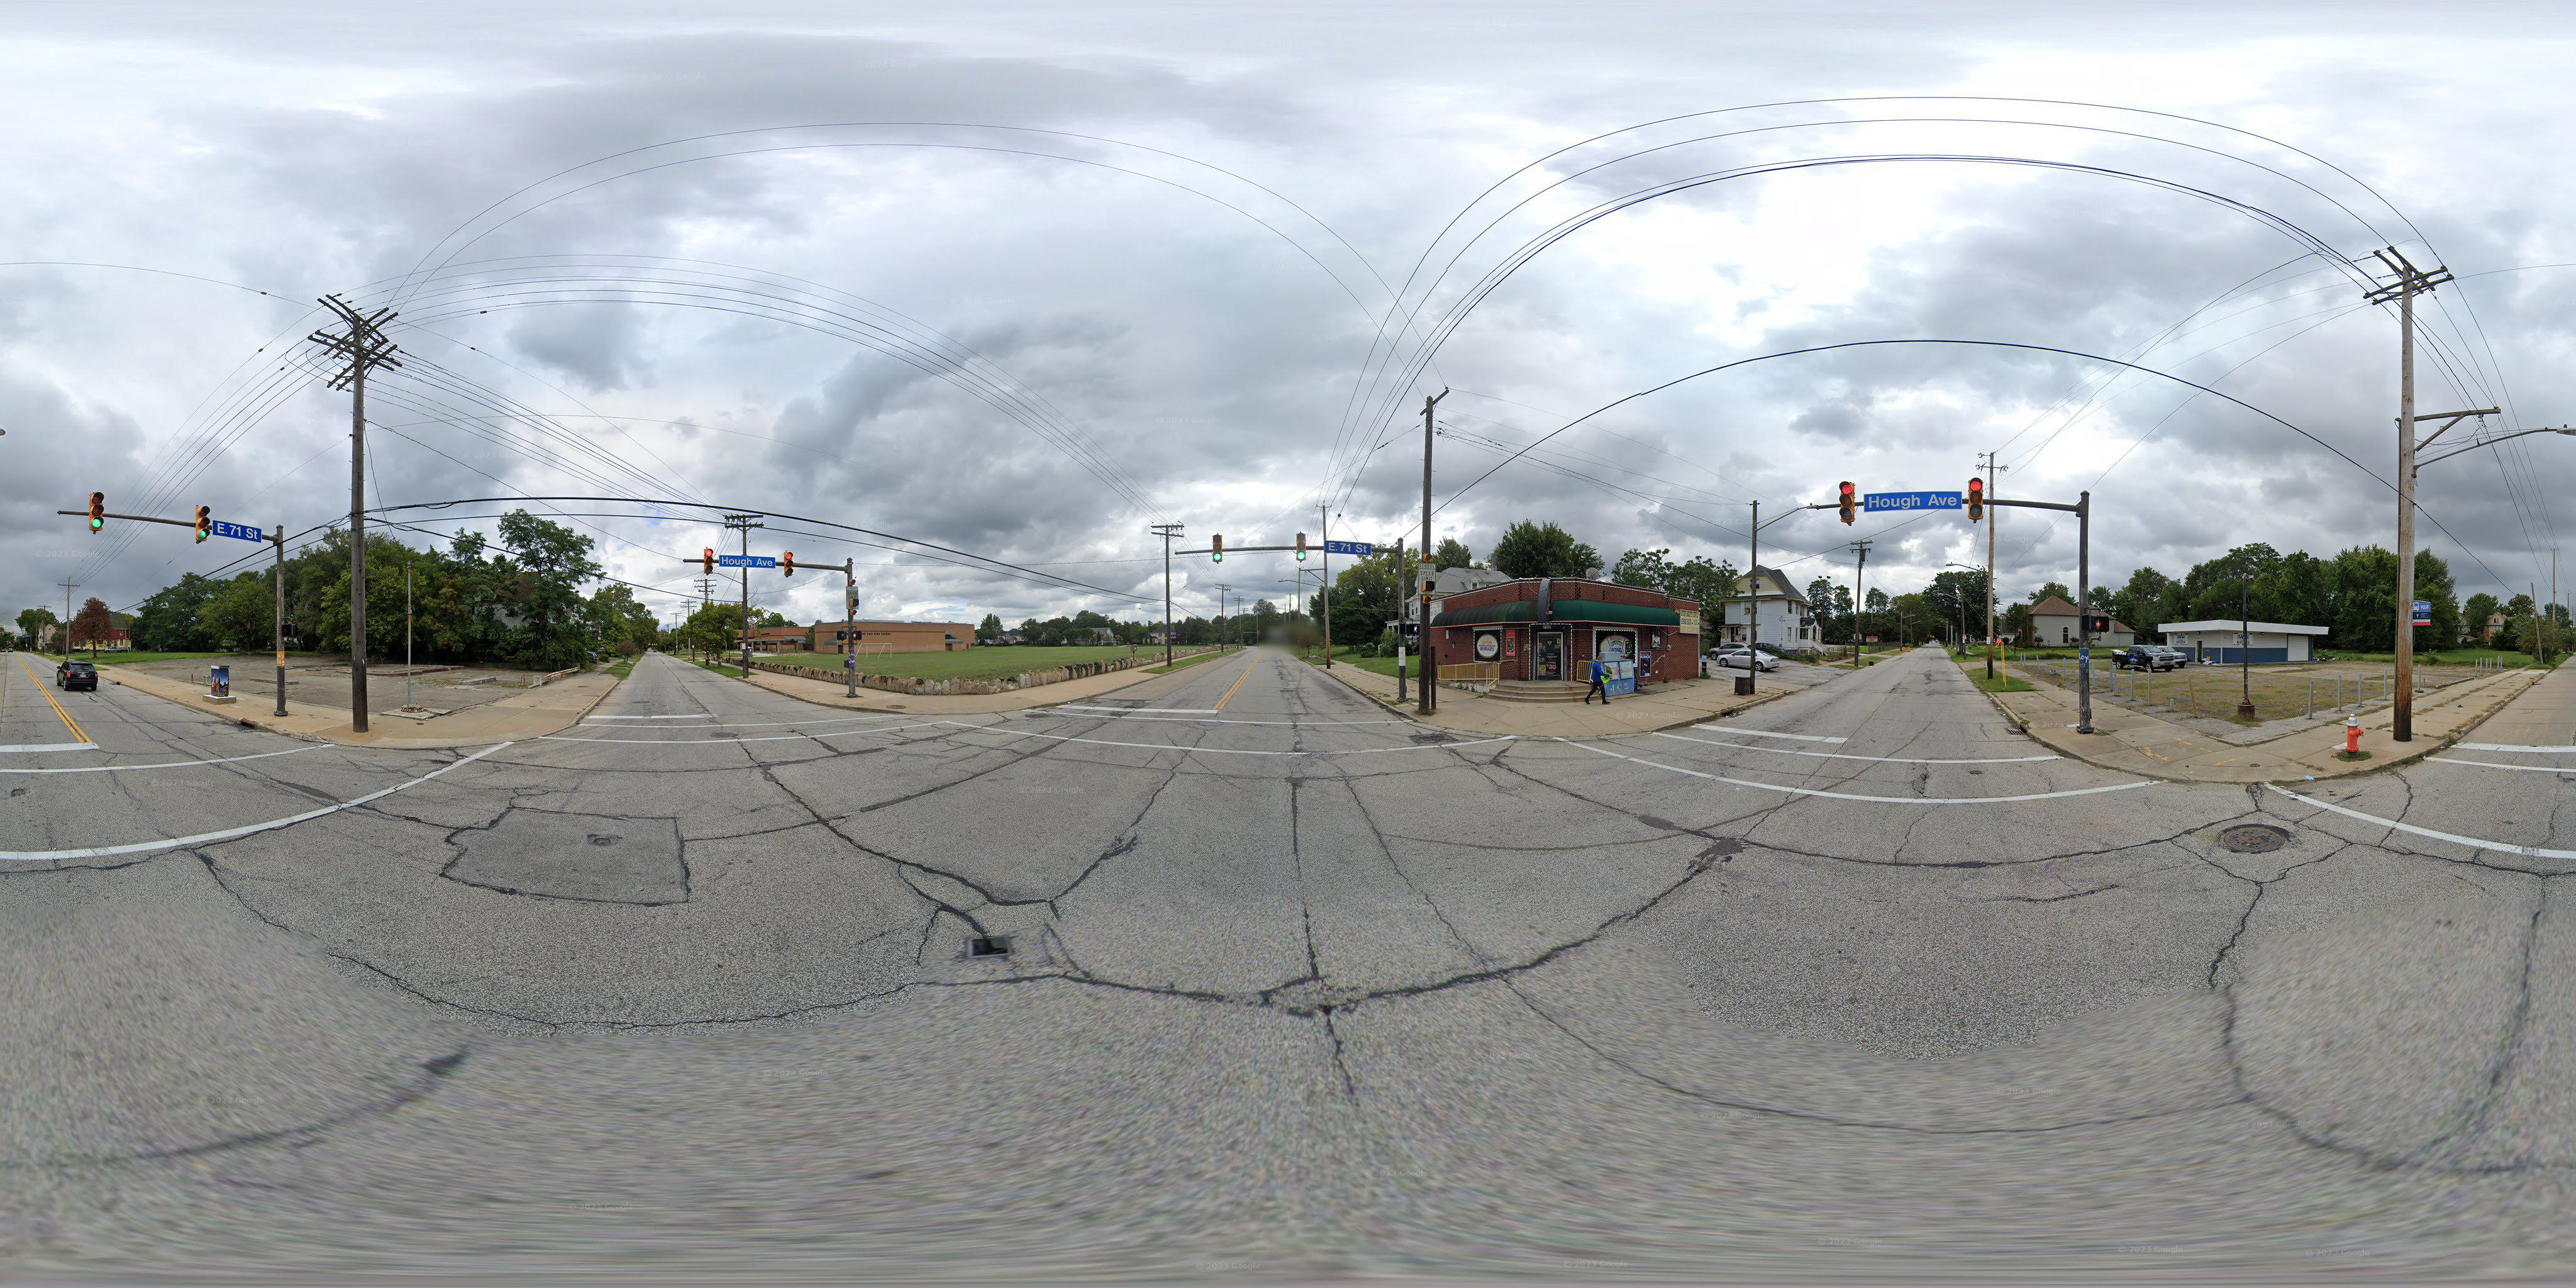Curb Ramp: (2065, 734, 2187, 787), (905, 698, 1035, 729), (1546, 721, 1654, 757), (1411, 708, 1511, 743), (534, 716, 580, 743)
Irregular Ramp: (338, 724, 493, 757)
Missing Curb Ramp: (2275, 724, 2423, 787)
